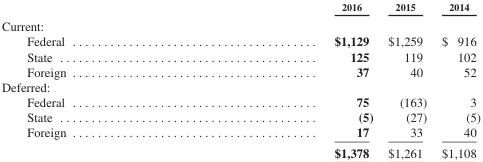table: (0, 0, 479, 159)
table column: (0, 0, 199, 159), (199, 0, 379, 159), (379, 0, 433, 159), (433, 0, 479, 159)
table column header: (0, 0, 479, 15)
table projected row header: (0, 15, 479, 33), (0, 79, 479, 93)
table row: (0, 15, 479, 33), (0, 141, 479, 159), (0, 124, 479, 141), (0, 63, 479, 79), (0, 93, 479, 109), (0, 0, 479, 15), (0, 33, 479, 48), (0, 48, 479, 63), (0, 109, 479, 124), (0, 79, 479, 93)
